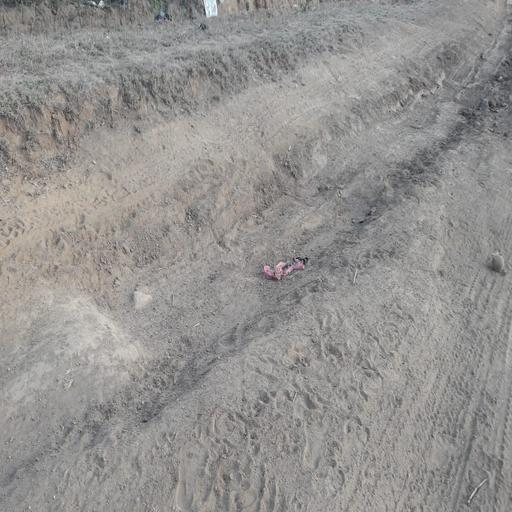vehicle_track: (0, 8, 512, 488), (0, 0, 489, 269), (337, 149, 512, 512)
